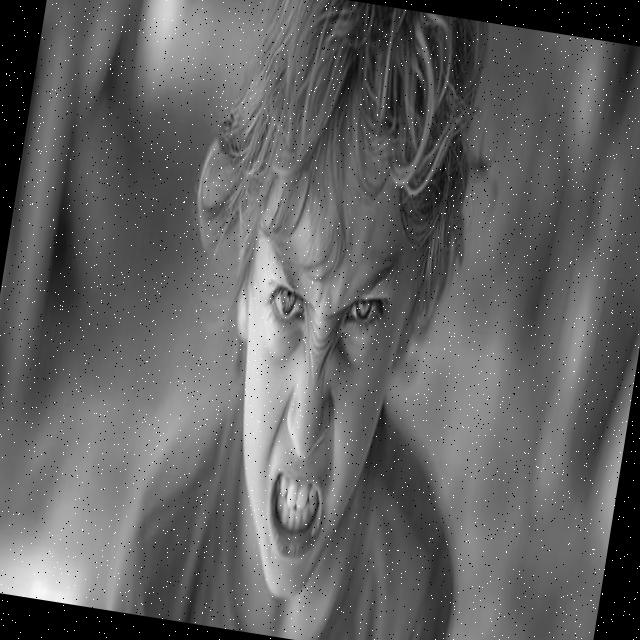Angry: (201, 127, 433, 611)
